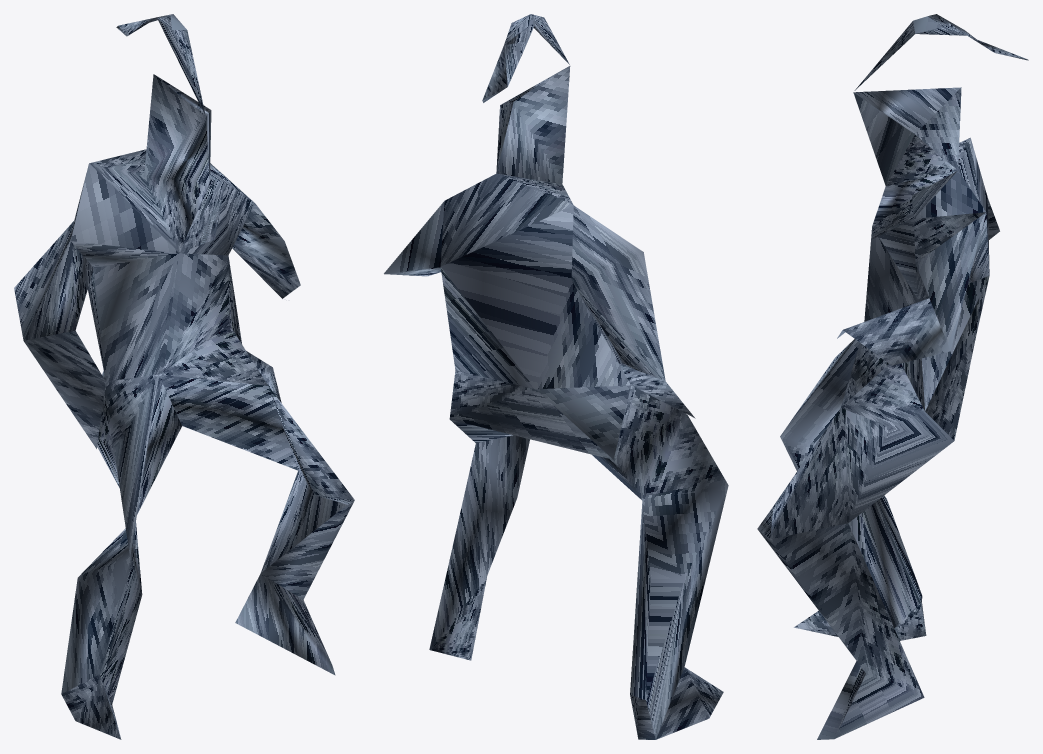
File: ae_knight_rider_iron_lod2.glb
3 renders of one model, left to right at view 1: azimuth 30°, elevation 25°; view 2: azimuth 150°, elevation 25°; view 3: azimuth 270°, elevation 25°, orthographic. The views are drawn at different scales.
Parts seen in each view (by area): view 1: output_unwrapped; view 2: output_unwrapped; view 3: output_unwrapped.
Boxes of the visible parts, x1,y1,x2,y2 form: output_unwrapped: (14,14,354,739); output_unwrapped: (384,14,728,739); output_unwrapped: (757,14,1028,739).
Size of the model in its own units: 0.7999 by 1.9 by 0.6969.
Materials: 1 (1 with a texture image).
